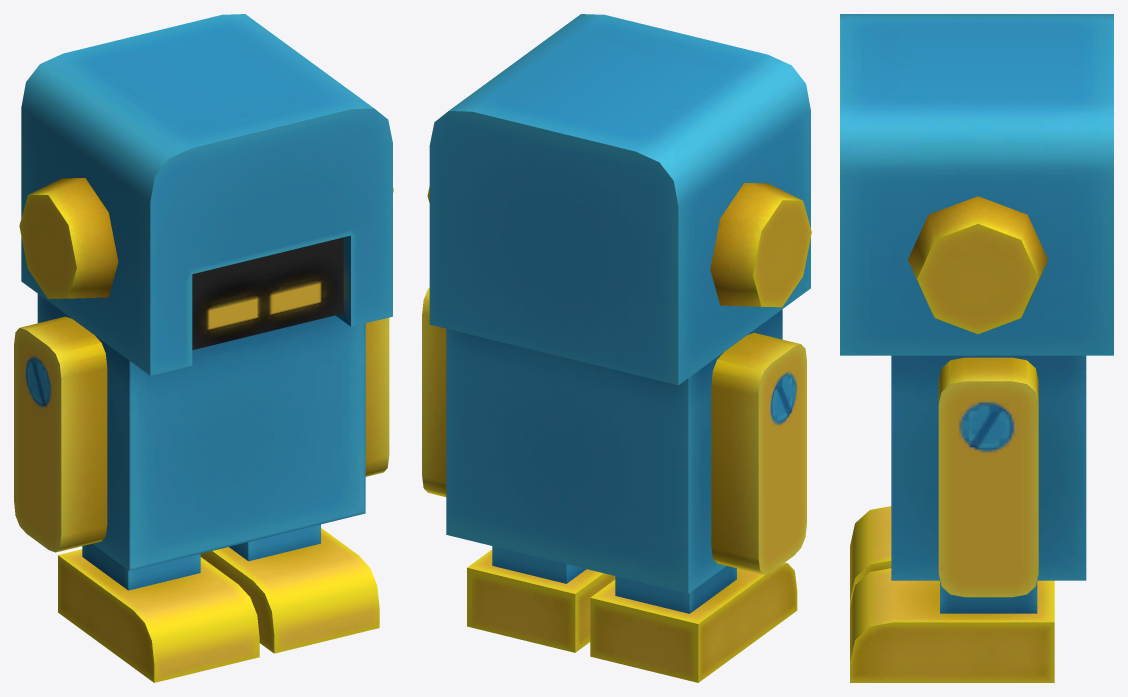
The model's file is robot.fbx.
3 views of the same model, side by side, from view 1: azimuth 30°, elevation 25°; view 2: azimuth 150°, elevation 25°; view 3: azimuth 270°, elevation 25° (orthographic). The views are drawn at different scales.
Parts seen in each view (by area): view 1: robot; view 2: robot; view 3: robot.
Boxes of the visible parts, x1,y1,x2,y2 form: robot: (14, 14, 393, 682); robot: (422, 14, 811, 682); robot: (840, 14, 1113, 682).
Size of the model in its own units: 0.3 by 0.4636 by 0.2045.
